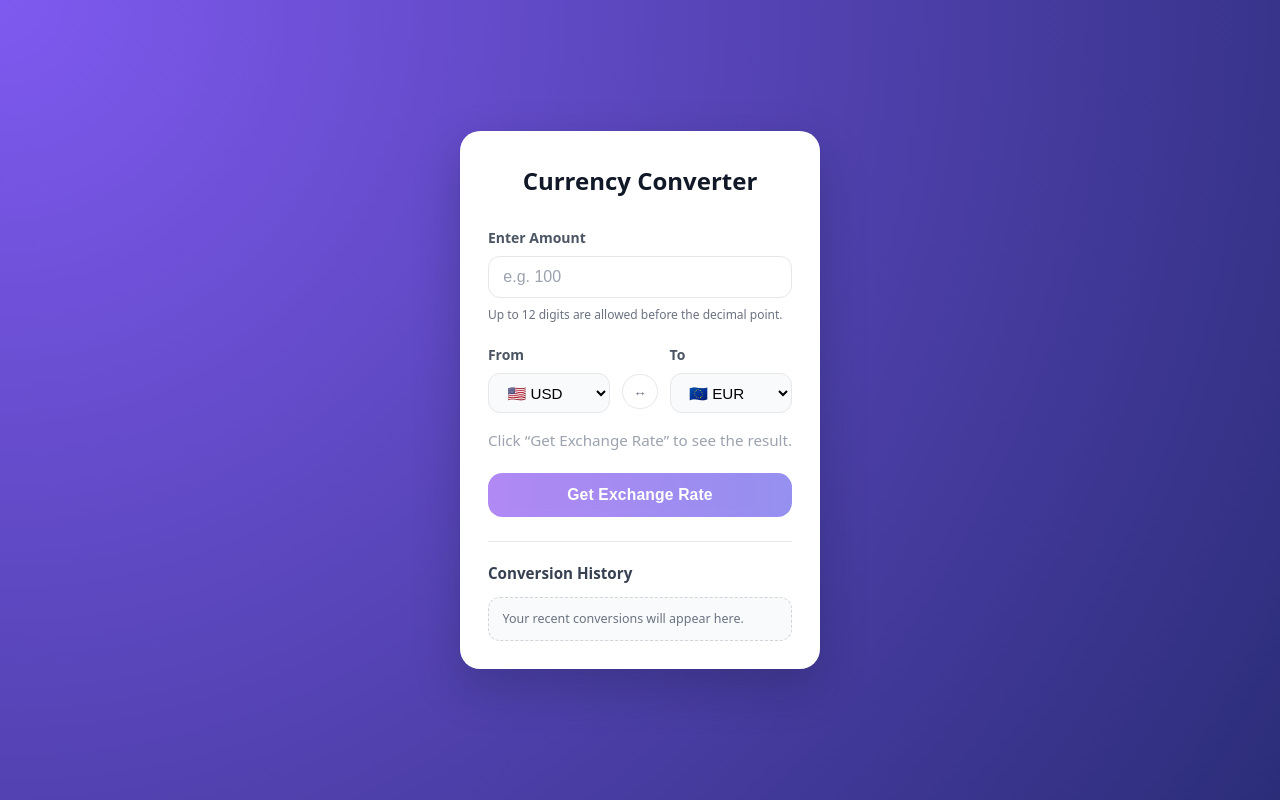
Test case: CurrencyConverter › shows result only after a successful conversion and clears on changes
// Enter amount clears any prior result and allows submit
In the number field labelled "Enter Amount": (640, 277) [488,256,792,298], type "100"
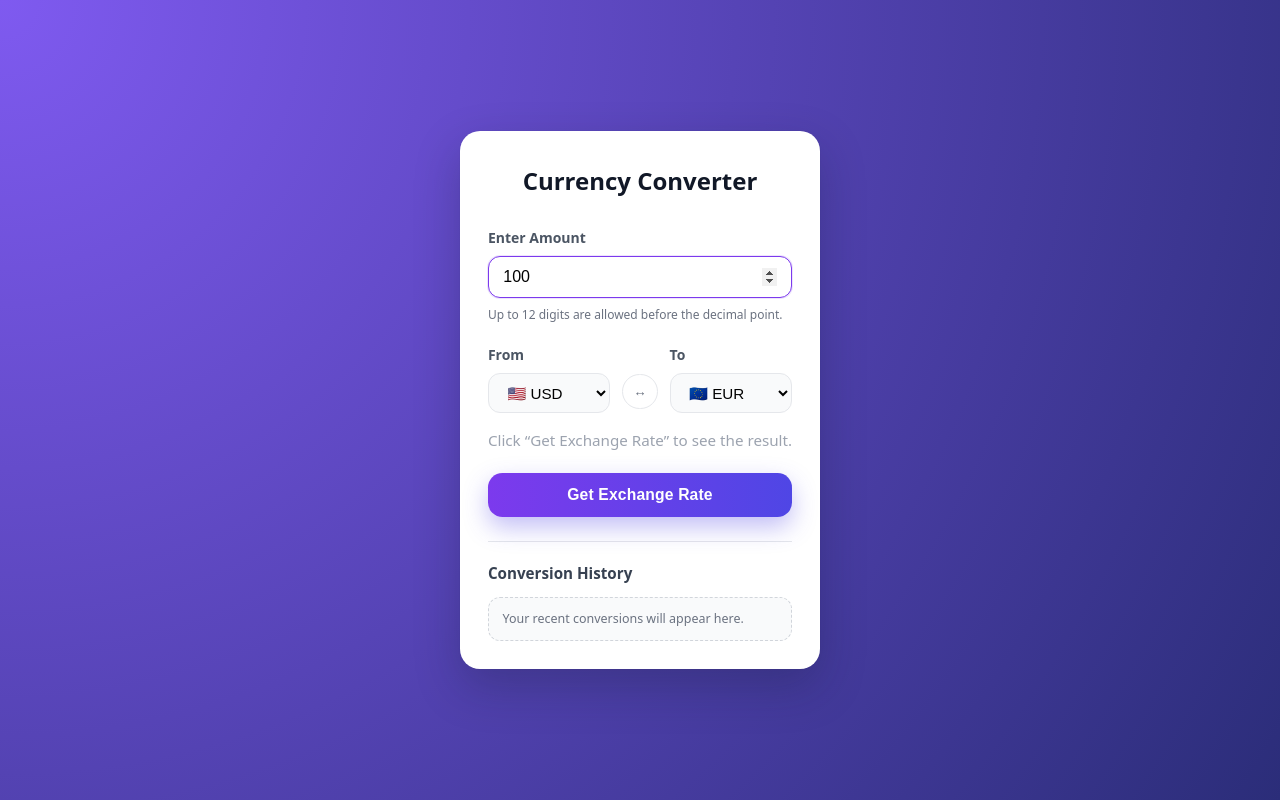
Click the button "Get Exchange Rate": (640, 495) [488,473,792,517]
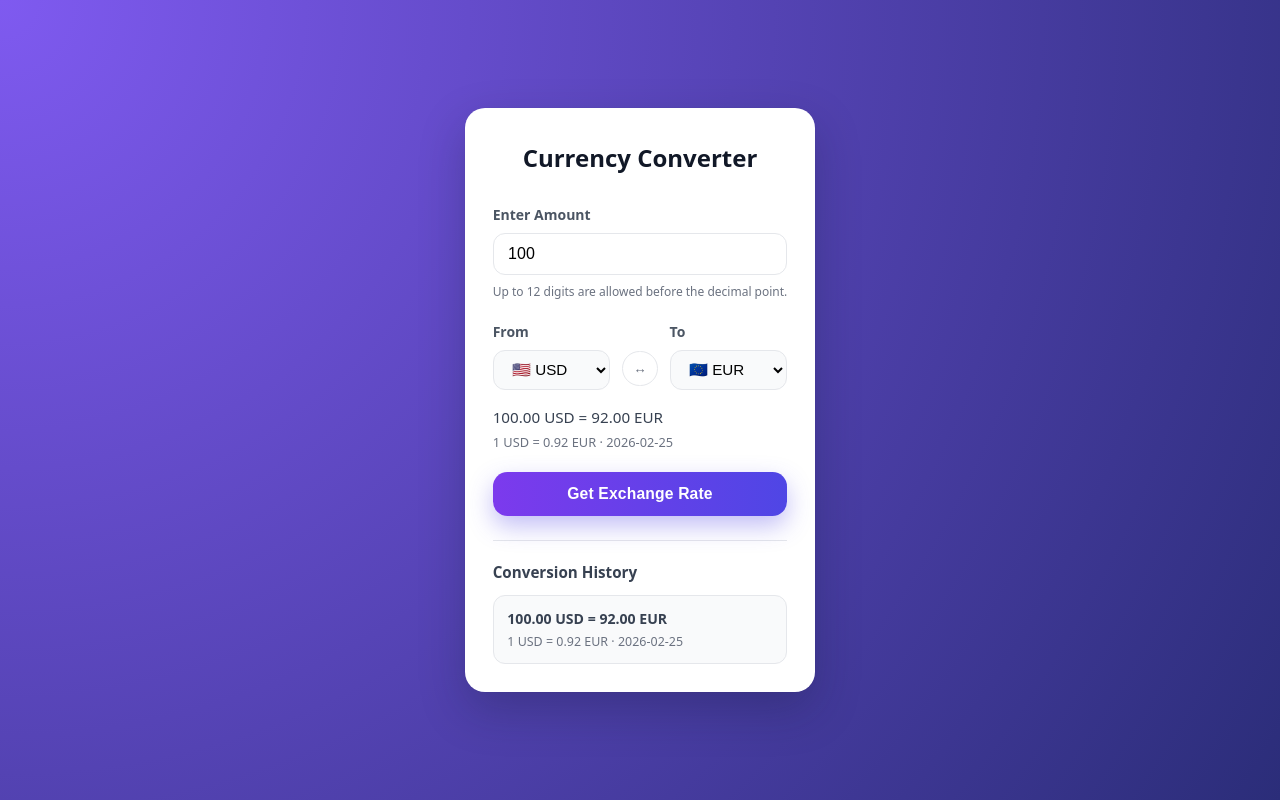
// Changing amount clears result
In the number field labelled "Enter Amount": (640, 254) [493,232,787,275], type "1"
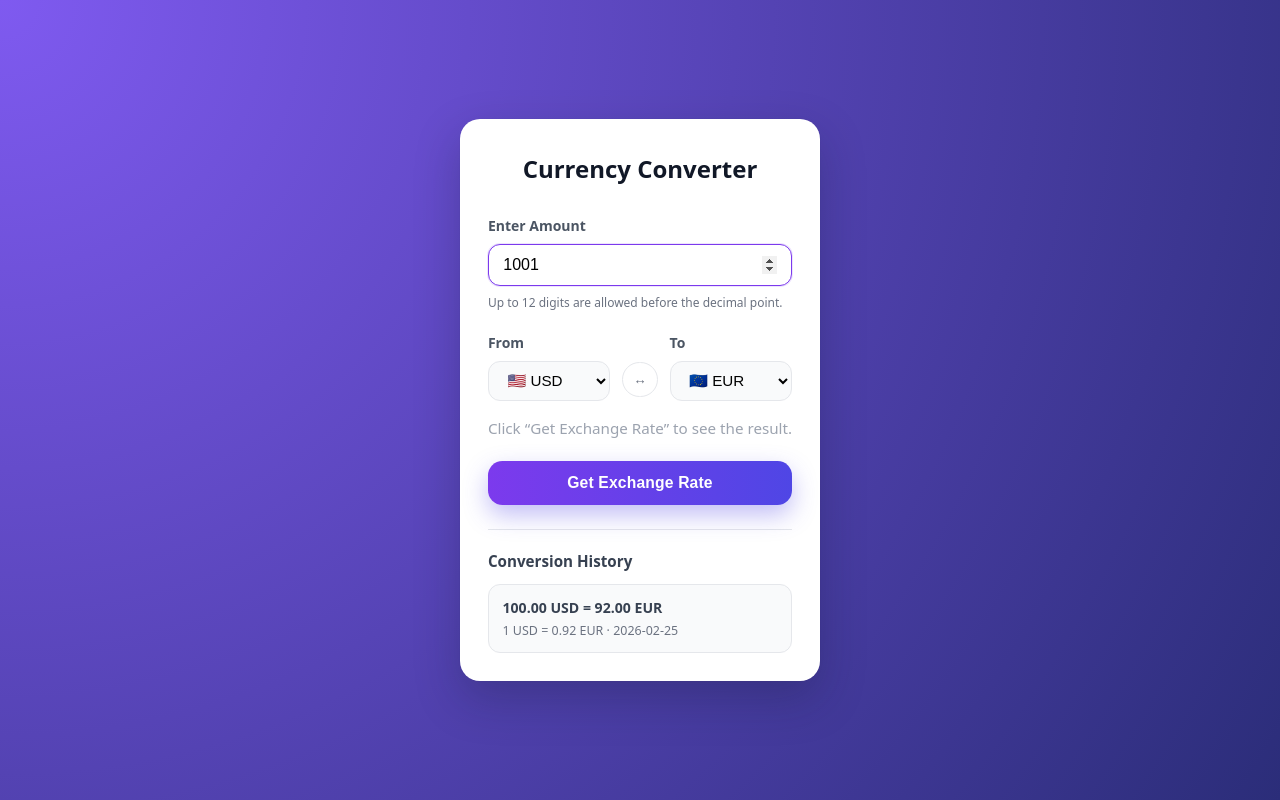
Now the text "Click “Get Exchange Rate” to see the result." is shown, box [488,418,792,438]
